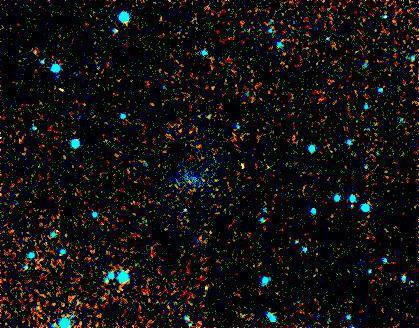star: (227, 148, 257, 178)
